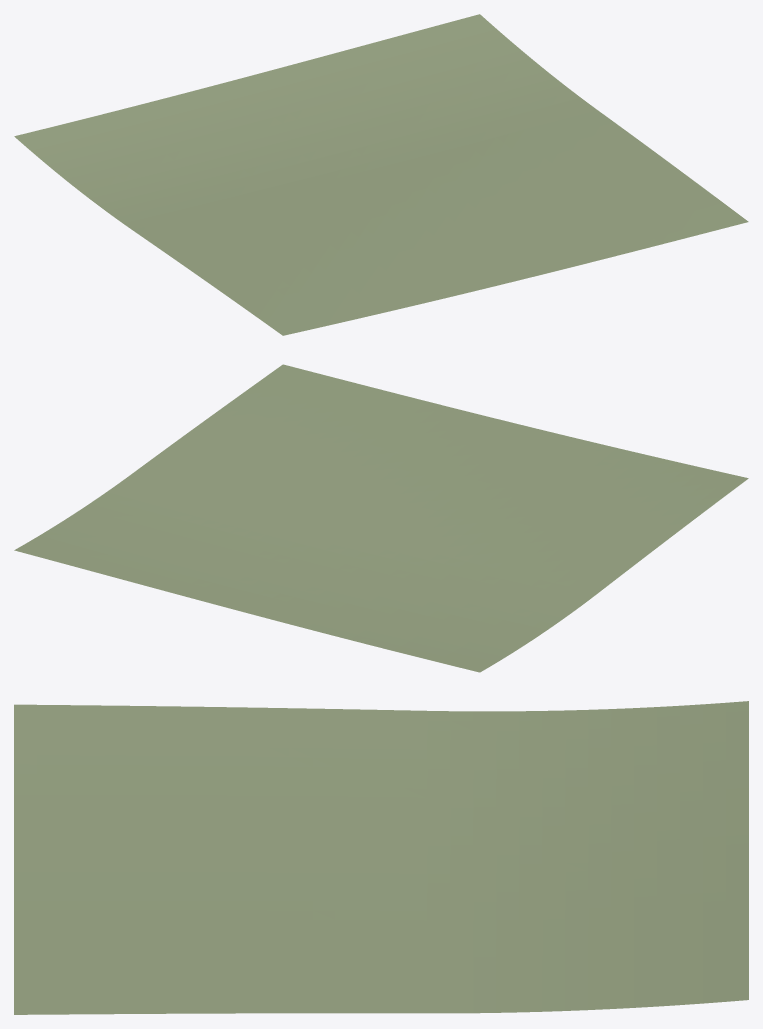
File: expanse-31-21.glb
3 renders of one model, top to bottom at view 1: azimuth 30°, elevation 25°; view 2: azimuth 150°, elevation 25°; view 3: azimuth 270°, elevation 25°, orthographic. The views are drawn at different scales.
Parts seen in each view (by area): view 1: expanse-31-21; view 2: expanse-31-21; view 3: expanse-31-21.
Boxes of the visible parts, x1,y1,x2,y2 form: expanse-31-21: [14, 14, 748, 335]; expanse-31-21: [14, 364, 748, 672]; expanse-31-21: [14, 701, 748, 1014].
Bounding box in the file's own units: 256 × 8.47 × 256.
